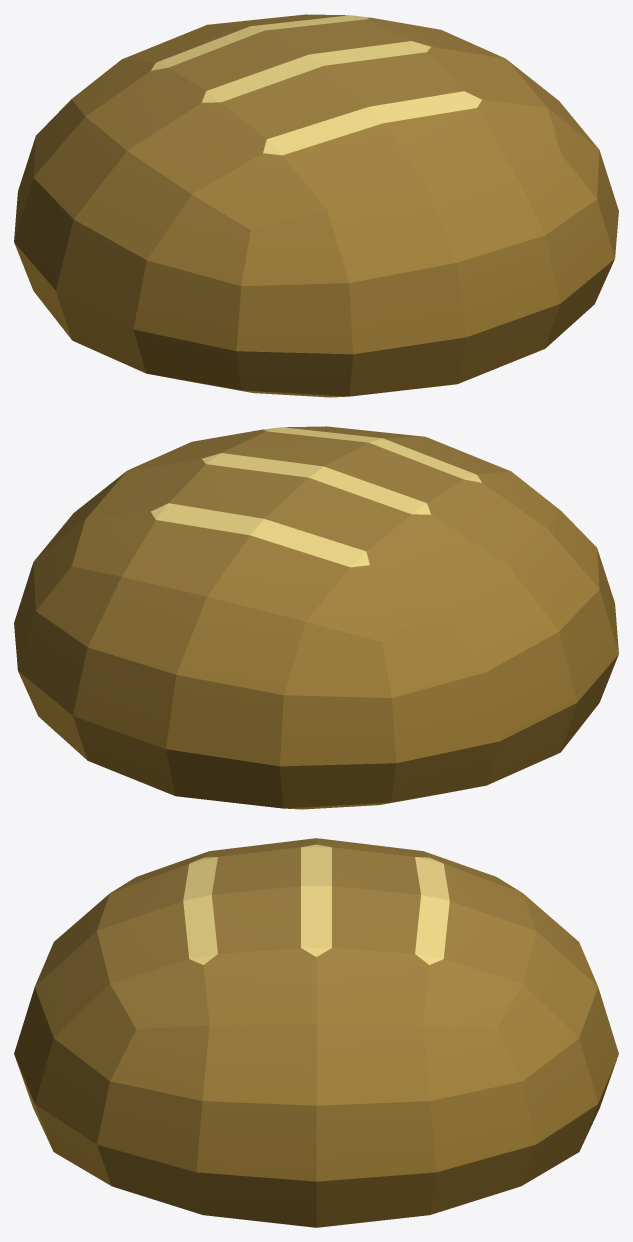
File: bread_2a.glb
3 views of the same model, one above another, from view 1: azimuth 30°, elevation 25°; view 2: azimuth 150°, elevation 25°; view 3: azimuth 270°, elevation 25° (orthographic).
Visible parts, largest first — view 1: bread_2a; view 2: bread_2a; view 3: bread_2a.
Part boxes in pixels (x1,y1,x2,y2): bread_2a: (14,14,618,397); bread_2a: (14,426,618,809); bread_2a: (14,838,618,1227).
Bounding box in the file's own units: 0.3494 × 0.1693 × 0.3494.
Materials: 1 (1 with a texture image).
